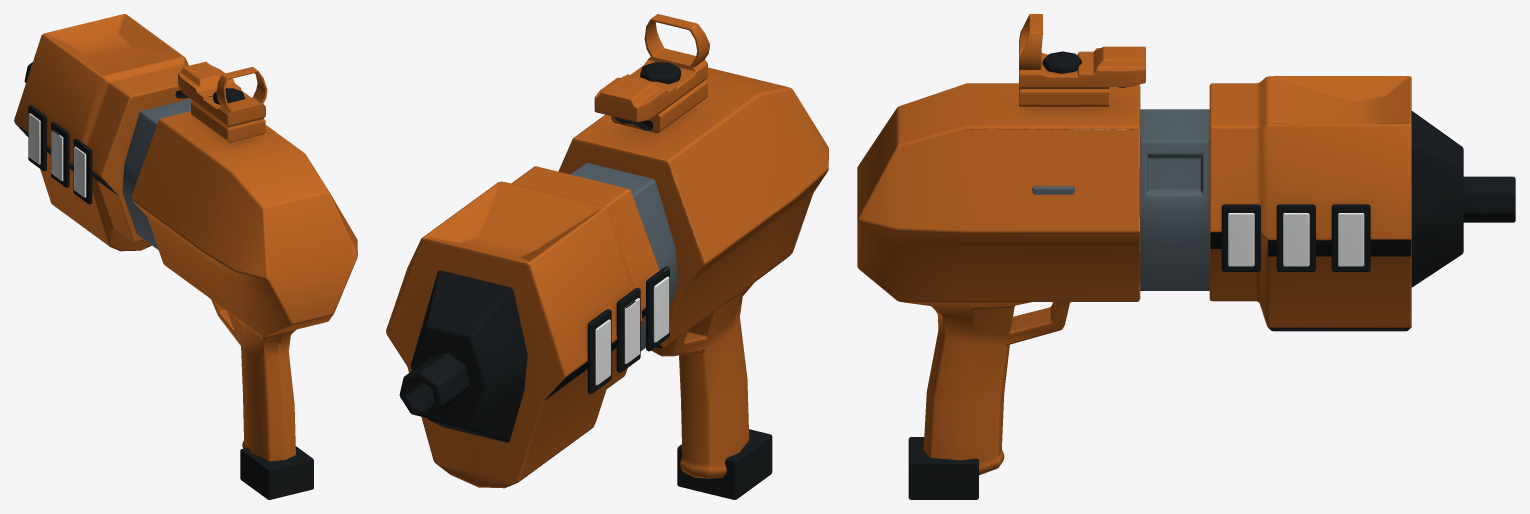
Rendered from burst_pistol.glb.
3 views of the same model, side by side, from view 1: azimuth 30°, elevation 25°; view 2: azimuth 150°, elevation 25°; view 3: azimuth 270°, elevation 25° (orthographic). The views are drawn at different scales.
Visible parts, largest first — view 1: burst_pistol, InsertedAmmo; view 2: burst_pistol, InsertedAmmo; view 3: burst_pistol, InsertedAmmo.
Boxes of the visible parts, x1,y1,x2,y2 form: burst_pistol: [14, 14, 357, 461]; InsertedAmmo: [240, 446, 313, 499]; burst_pistol: [386, 14, 828, 488]; InsertedAmmo: [677, 429, 772, 499]; burst_pistol: [857, 14, 1515, 475]; InsertedAmmo: [908, 437, 978, 499].
Bounding box in the file's own units: 0.1269 × 0.3108 × 0.399.
Materials: 1 (1 with a texture image).
